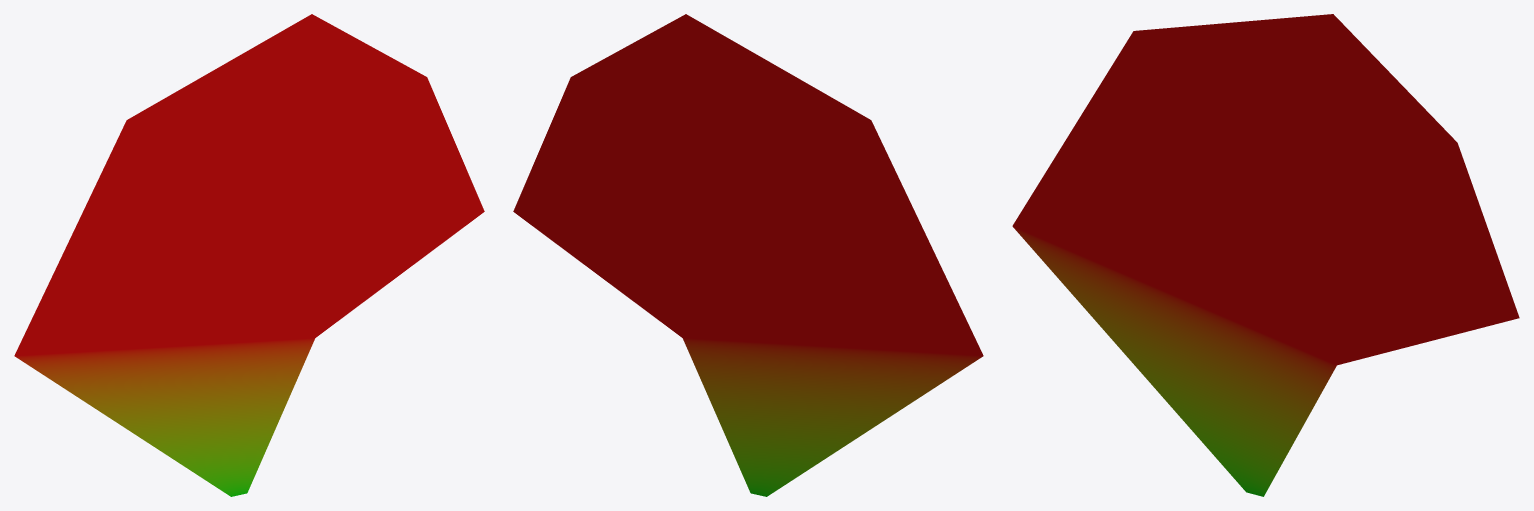
Rendered from European Spindle_LOD4_Var17.fbx.
3 views of the same model, side by side, from view 1: azimuth 30°, elevation 25°; view 2: azimuth 150°, elevation 25°; view 3: azimuth 330°, elevation 25° (orthographic). The views are drawn at different scales.
Visible parts, largest first — view 1: _fcvi_Var17_LOD4; view 2: _fcvi_Var17_LOD4; view 3: _fcvi_Var17_LOD4.
Part boxes in pixels (x1,y1,x2,y2): _fcvi_Var17_LOD4: (14,14,484,496); _fcvi_Var17_LOD4: (513,14,983,496); _fcvi_Var17_LOD4: (1012,14,1519,496).
Size of the model in its own units: 327 by 308 by 1.46e-11.
